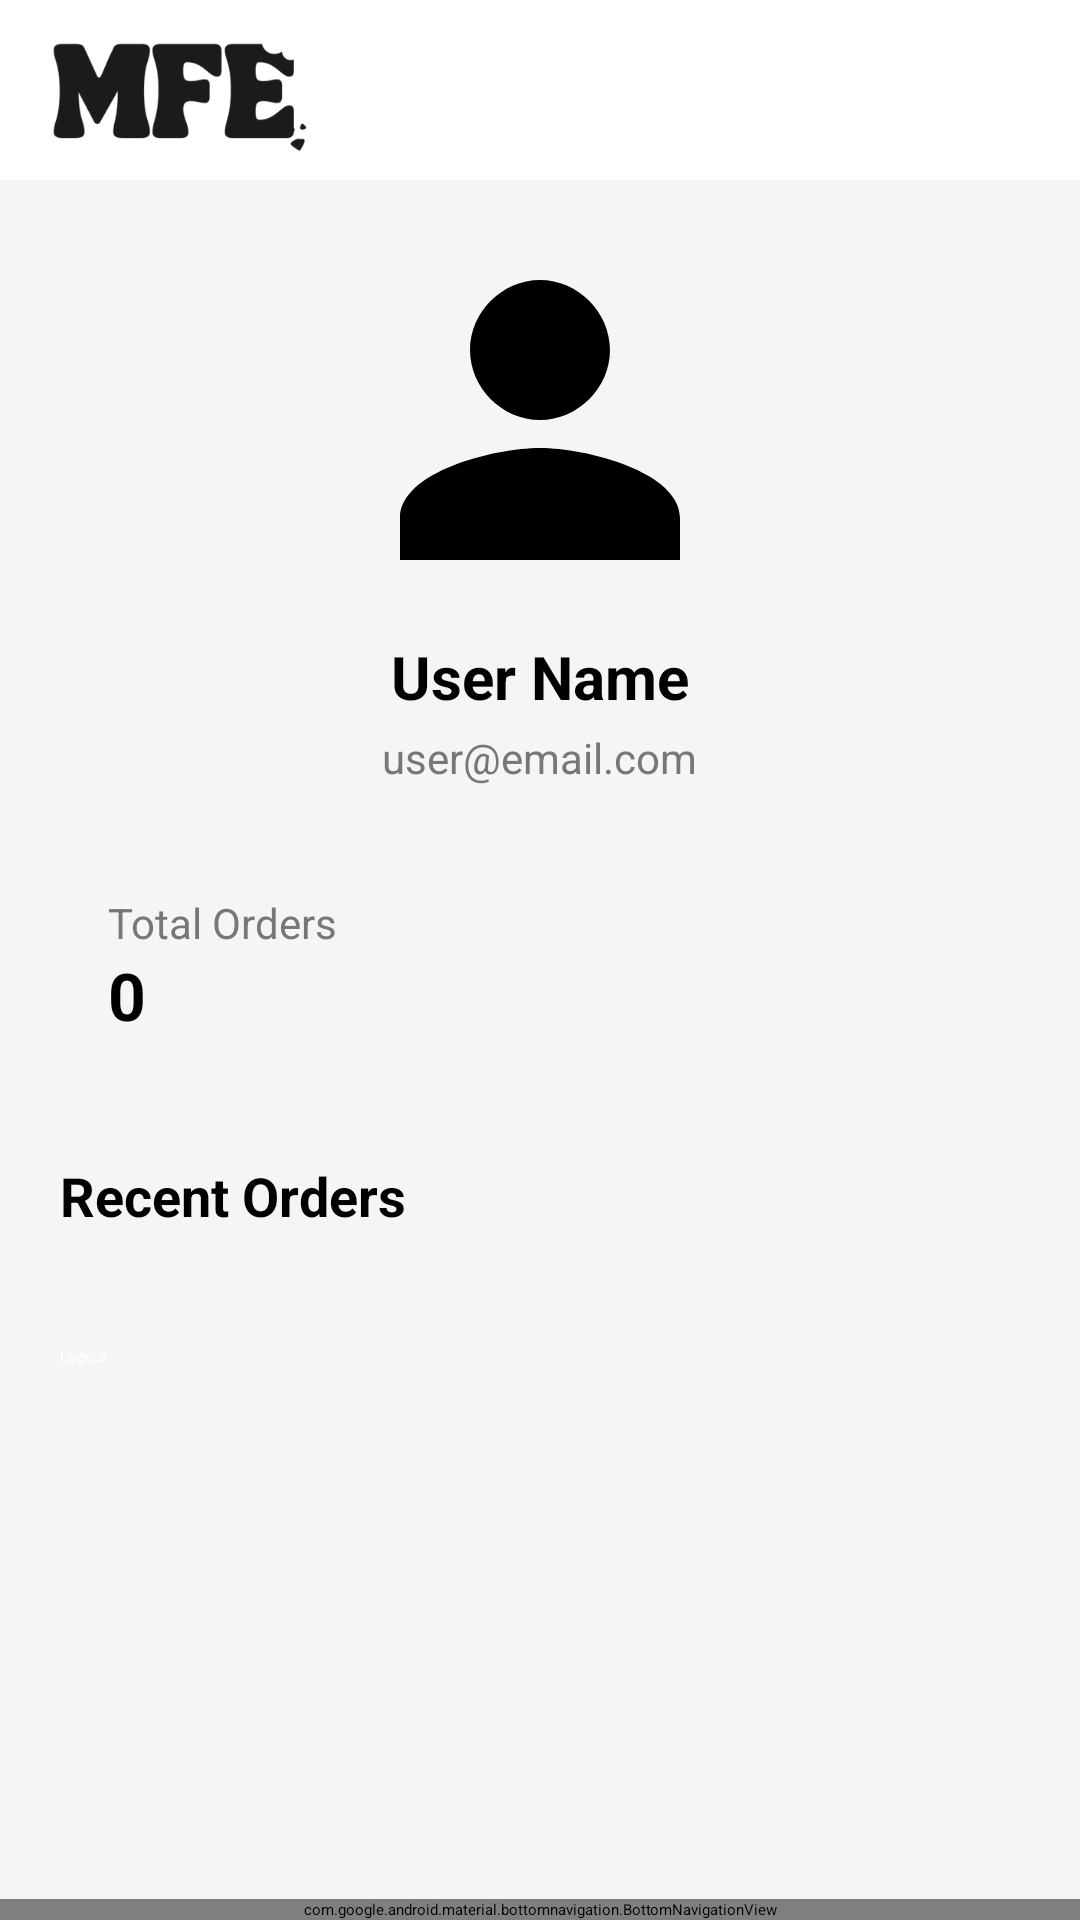

Named icons in this screenshot (1080*1920) and their bounding boxes, (x1, y1, x2, y2):
profile: (400, 280, 680, 560)
